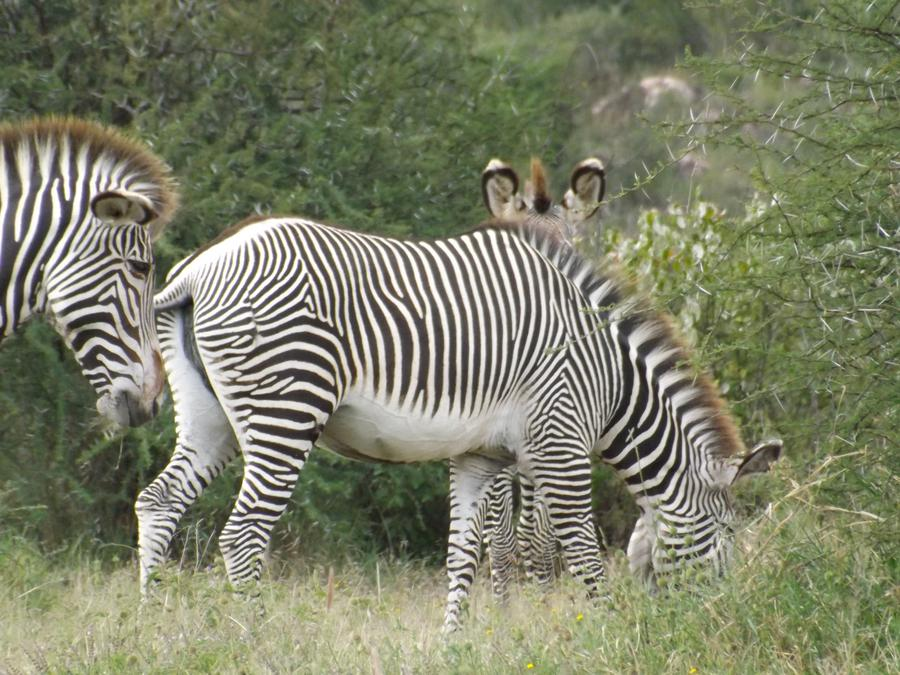zebra_grevys: (177, 206, 594, 452)
